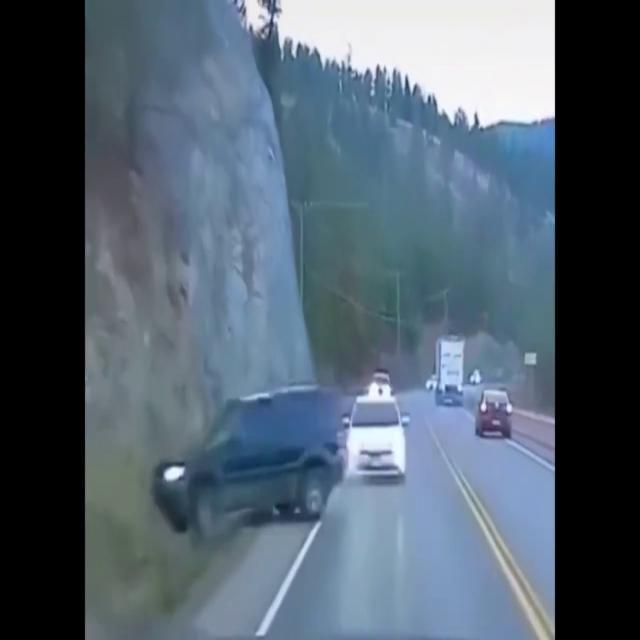normal: (343, 363, 437, 510)
single accident: (135, 300, 358, 553)
